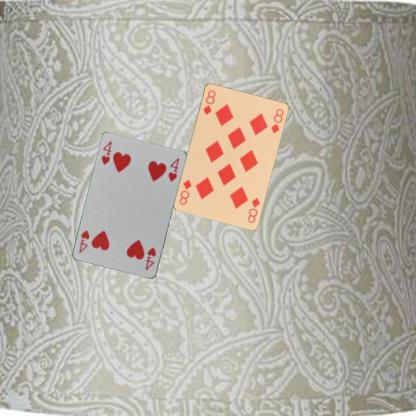4h: (99, 138, 113, 166), (143, 245, 157, 272)
8d: (245, 194, 261, 224), (201, 87, 217, 116)
